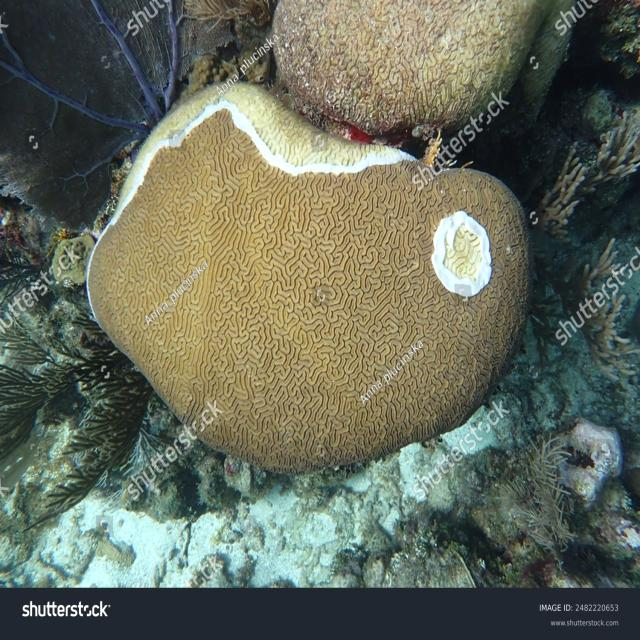Coral: (86, 82, 529, 475), (0, 0, 179, 230), (272, 0, 576, 135)
